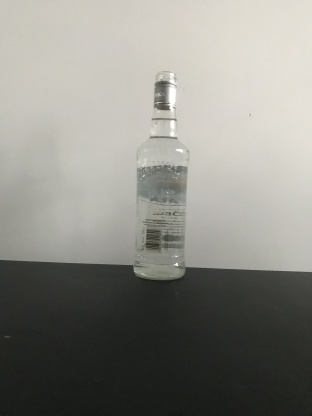nakretka: (152, 69, 178, 111)
